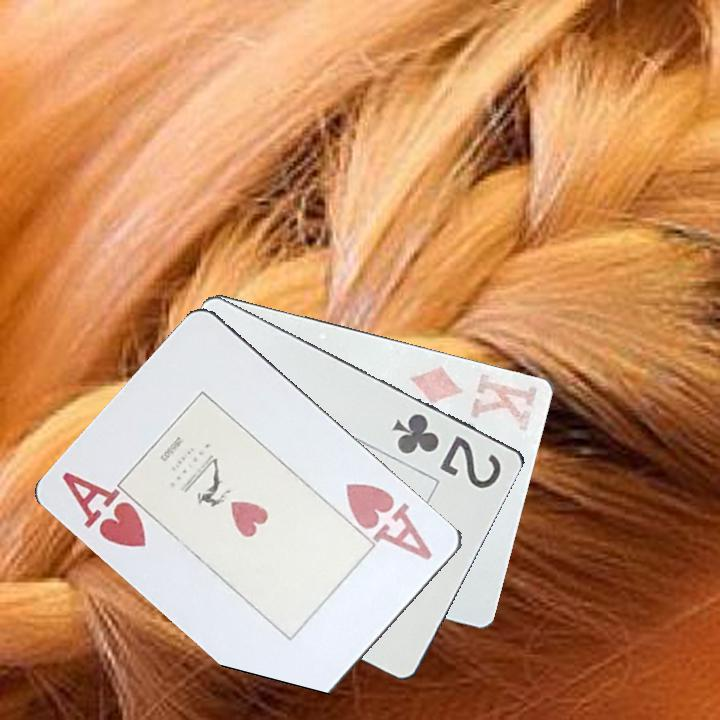2c: (389, 409, 505, 492)
Ah: (340, 476, 436, 563), (59, 468, 150, 551)
Kd: (407, 357, 541, 434)
